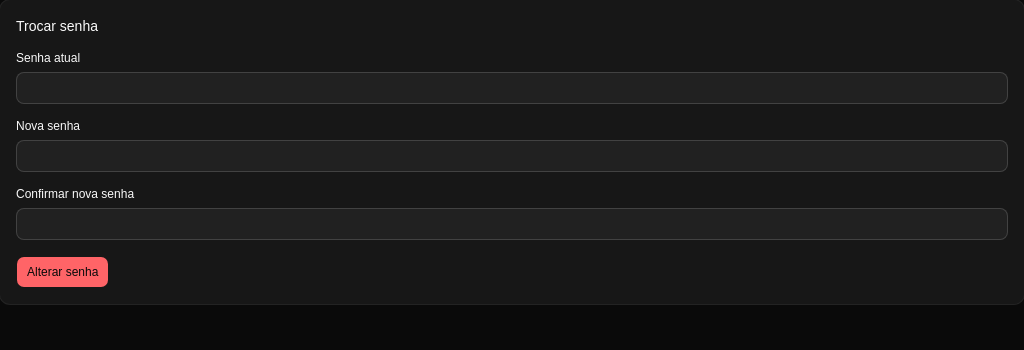
Test: ChangePasswordForm › does not submit when the passwords do not match
Type "oldpassword" into the password field labelled "Senha atual". click: (512, 88)
box: 16,72 -> 1008,104
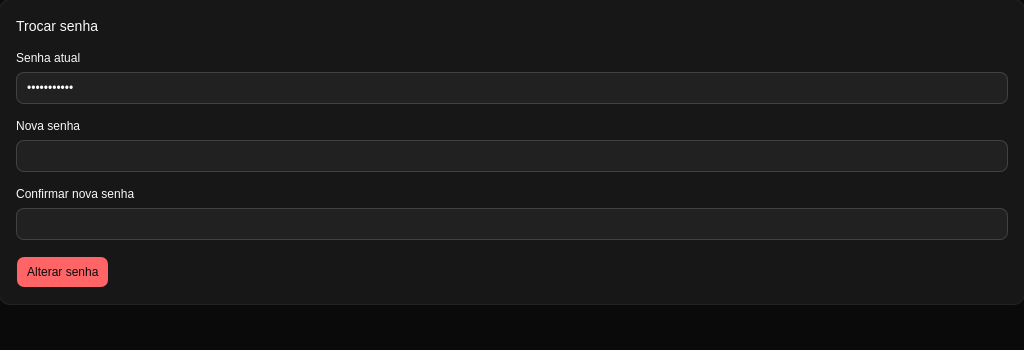
Type "newpassword123" into the password field labelled "Nova senha". click: (512, 156)
box: 16,140 -> 1008,172
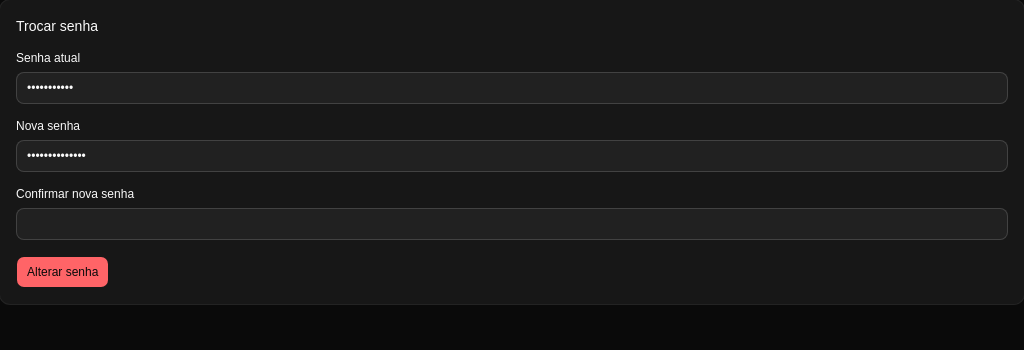
Type "different" into the password field labelled "Confirmar nova senha". click: (512, 224)
box: 16,208 -> 1008,240
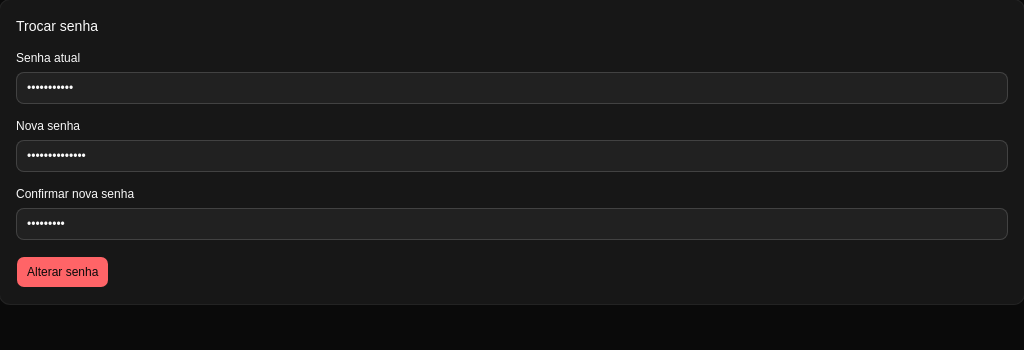
Click the button "Alterar senha". click: (63, 272)
box: 16,256 -> 109,288
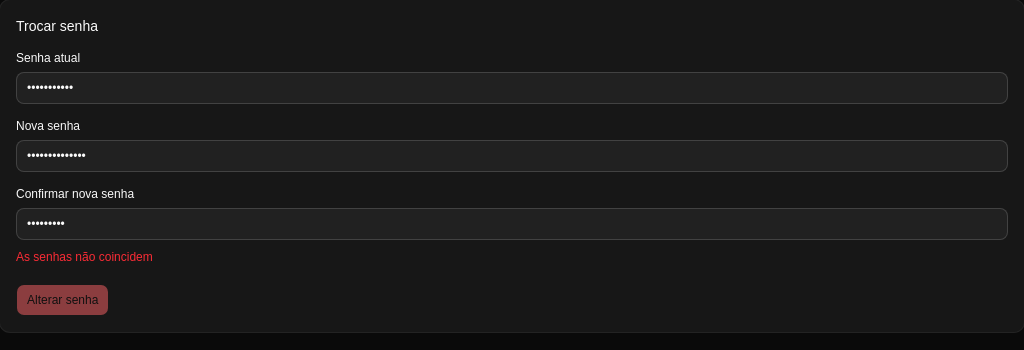
Check: the text "As senhas não coincidem" is shown, box 16,250 -> 153,264
